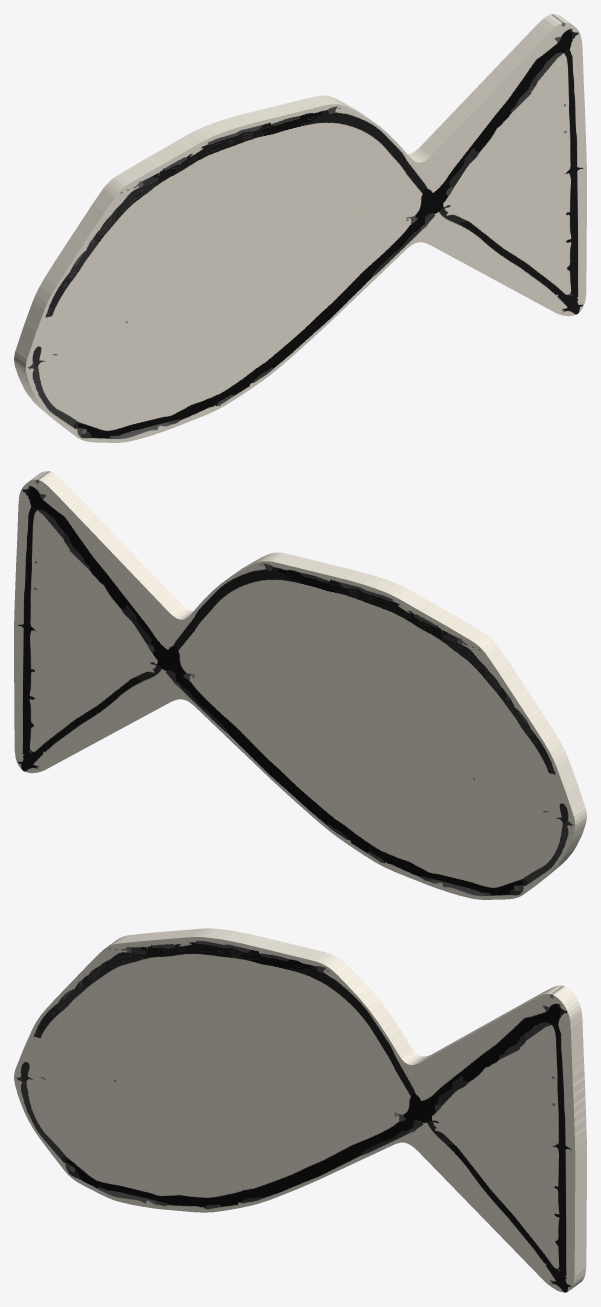
Rendered from drawing11_fish_2mm.glb.
The picture shows the model from 3 angles, top to bottom: view 1: azimuth 30°, elevation 25°; view 2: azimuth 150°, elevation 25°; view 3: azimuth 330°, elevation 25°; orthographic projection.
Parts seen in each view (by area): view 1: geometry_0; view 2: geometry_0; view 3: geometry_0.
Part boxes in pixels (left/top/right/bottom): geometry_0: left=14, top=14, right=586, bottom=442; geometry_0: left=14, top=471, right=586, bottom=899; geometry_0: left=14, top=928, right=586, bottom=1292.
Bounding box in the file's own units: 0.0553 × 0.0294 × 0.002.
Materials: 1 (1 with a texture image).
